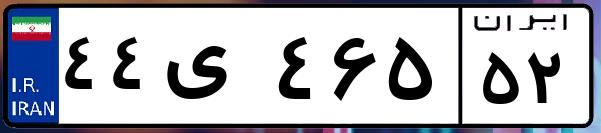2: (525, 38, 570, 115)
4: (270, 28, 330, 110), (57, 26, 110, 100), (110, 28, 158, 98)
5: (385, 28, 445, 110), (475, 38, 525, 113)
6: (330, 28, 385, 110)
ی: (158, 20, 270, 120)
